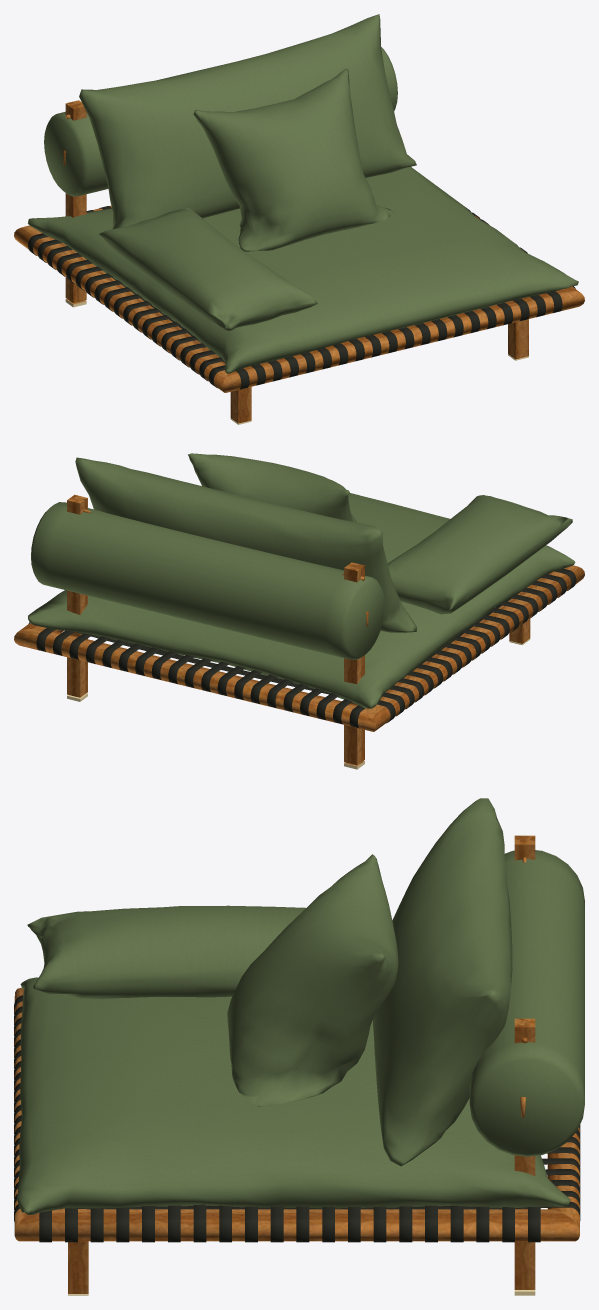
Rendered from previewCouch.glb.
3 views of the same model, one above another, from view 1: azimuth 30°, elevation 25°; view 2: azimuth 150°, elevation 25°; view 3: azimuth 270°, elevation 25° (orthographic). The views are drawn at different scales.
Parts seen in each view (by area): view 1: Low_basePillow, Low_backPillow, Low_restPillow, Low_sidePillow, Low_WoodBase, Low_backbackPillow, Low_grid, Low_gridA, Low_woodLegs; view 2: Low_backbackPillow, Low_basePillow, Low_backPillow, Low_sidePillow, Low_WoodBase, Low_restPillow, Low_grid, Low_gridA, Low_woodLegs; view 3: Low_basePillow, Low_backPillow, Low_restPillow, Low_backbackPillow, Low_sidePillow, Low_WoodBase, Low_gridA, Low_woodLegs, Low_grid.
Boxes of the visible parts, <box> form: Low_basePillow: <box>27,166,578,373</box>; Low_backPillow: <box>79,14,416,228</box>; Low_restPillow: <box>193,68,393,251</box>; Low_sidePillow: <box>99,207,317,331</box>; Low_WoodBase: <box>14,205,584,392</box>; Low_backbackPillow: <box>44,47,397,196</box>; Low_grid: <box>86,206,562,389</box>; Low_gridA: <box>28,206,575,388</box>; Low_woodLegs: <box>65,100,528,424</box>; Low_backbackPillow: <box>31,502,384,659</box>; Low_basePillow: <box>28,493,575,708</box>; Low_backPillow: <box>75,457,416,632</box>; Low_sidePillow: <box>387,495,572,614</box>; Low_WoodBase: <box>14,565,584,731</box>; Low_restPillow: <box>188,453,356,522</box>; Low_grid: <box>36,572,551,728</box>; Low_gridA: <box>28,568,576,723</box>; Low_woodLegs: <box>67,494,530,769</box>; Low_basePillow: <box>17,977,570,1214</box>; Low_backPillow: <box>373,798,512,1166</box>; Low_restPillow: <box>227,854,398,1106</box>; Low_backbackPillow: <box>469,850,584,1156</box>; Low_sidePillow: <box>27,905,305,998</box>; Low_WoodBase: <box>14,987,579,1241</box>; Low_gridA: <box>39,1204,540,1242</box>; Low_woodLegs: <box>61,835,535,1295</box>; Low_grid: <box>14,995,580,1221</box>.
Bounding box in the file's own units: 110 × 65.97 × 111.
Materials: 1 (1 with a texture image).
